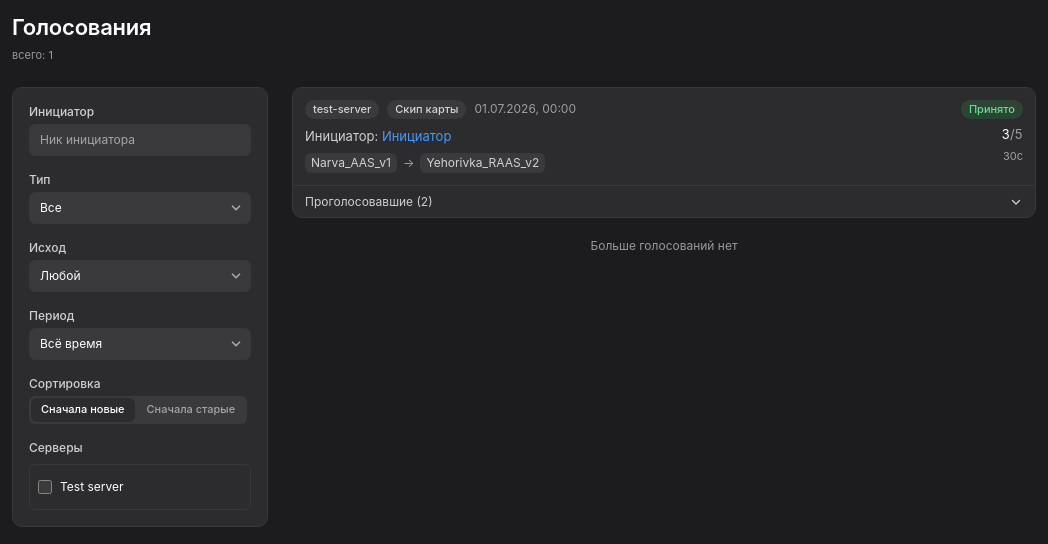
Test: VotesPage › loads the named ballots when the voters row is expanded
Click the button "Проголосовавшие (2)": [363, 201] box x1=293 y1=185 x2=1035 y2=217
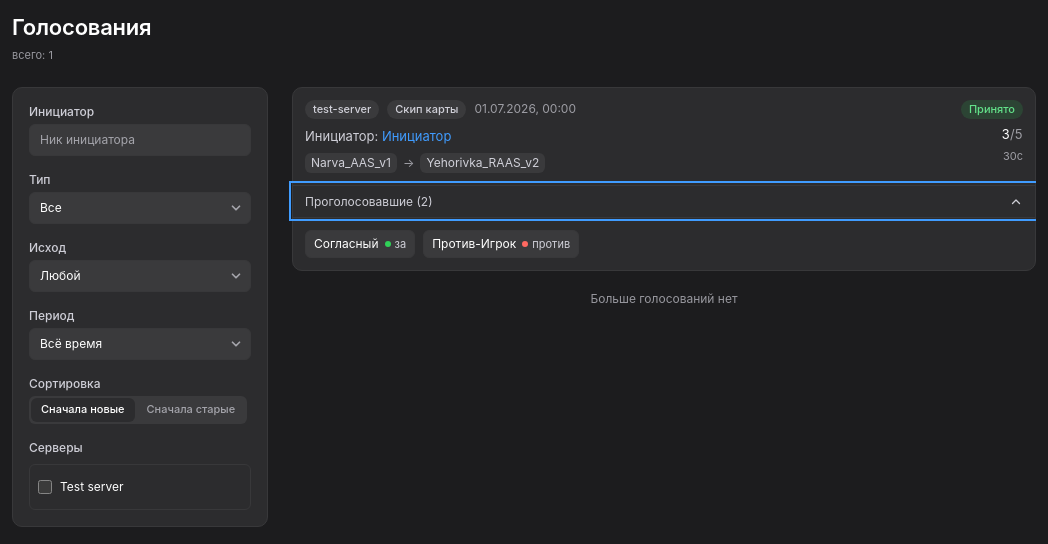
Expected: the link "Против-Игрок против" is shown, x1=423 y1=230 x2=579 y2=258
